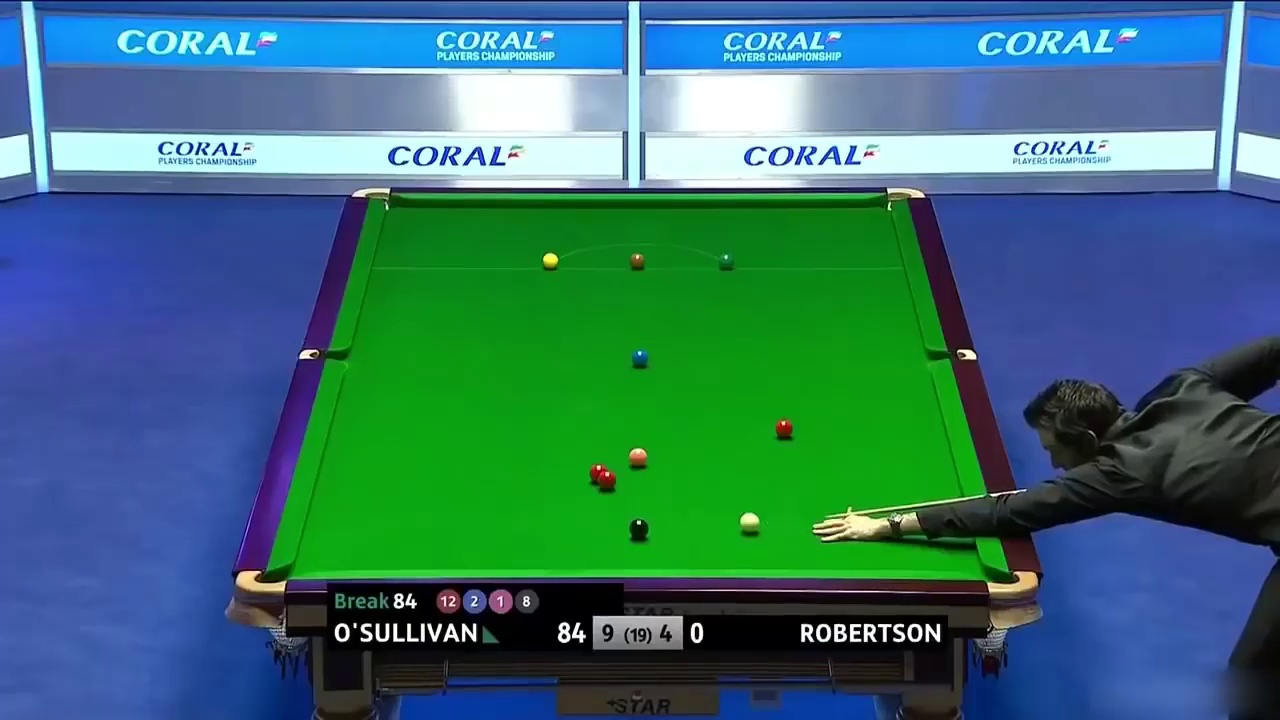ball: (626, 447, 650, 469), (629, 348, 649, 369), (738, 512, 758, 533), (774, 419, 793, 440), (629, 518, 649, 537), (542, 249, 558, 269), (631, 250, 646, 268), (719, 252, 732, 268)
